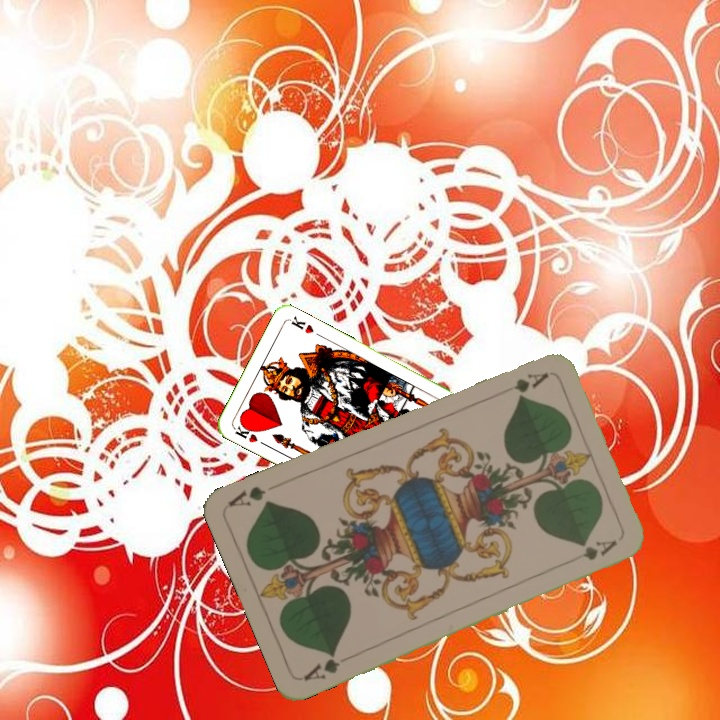GA: (299, 649, 343, 684), (509, 368, 551, 396)
HK: (230, 419, 268, 448)
